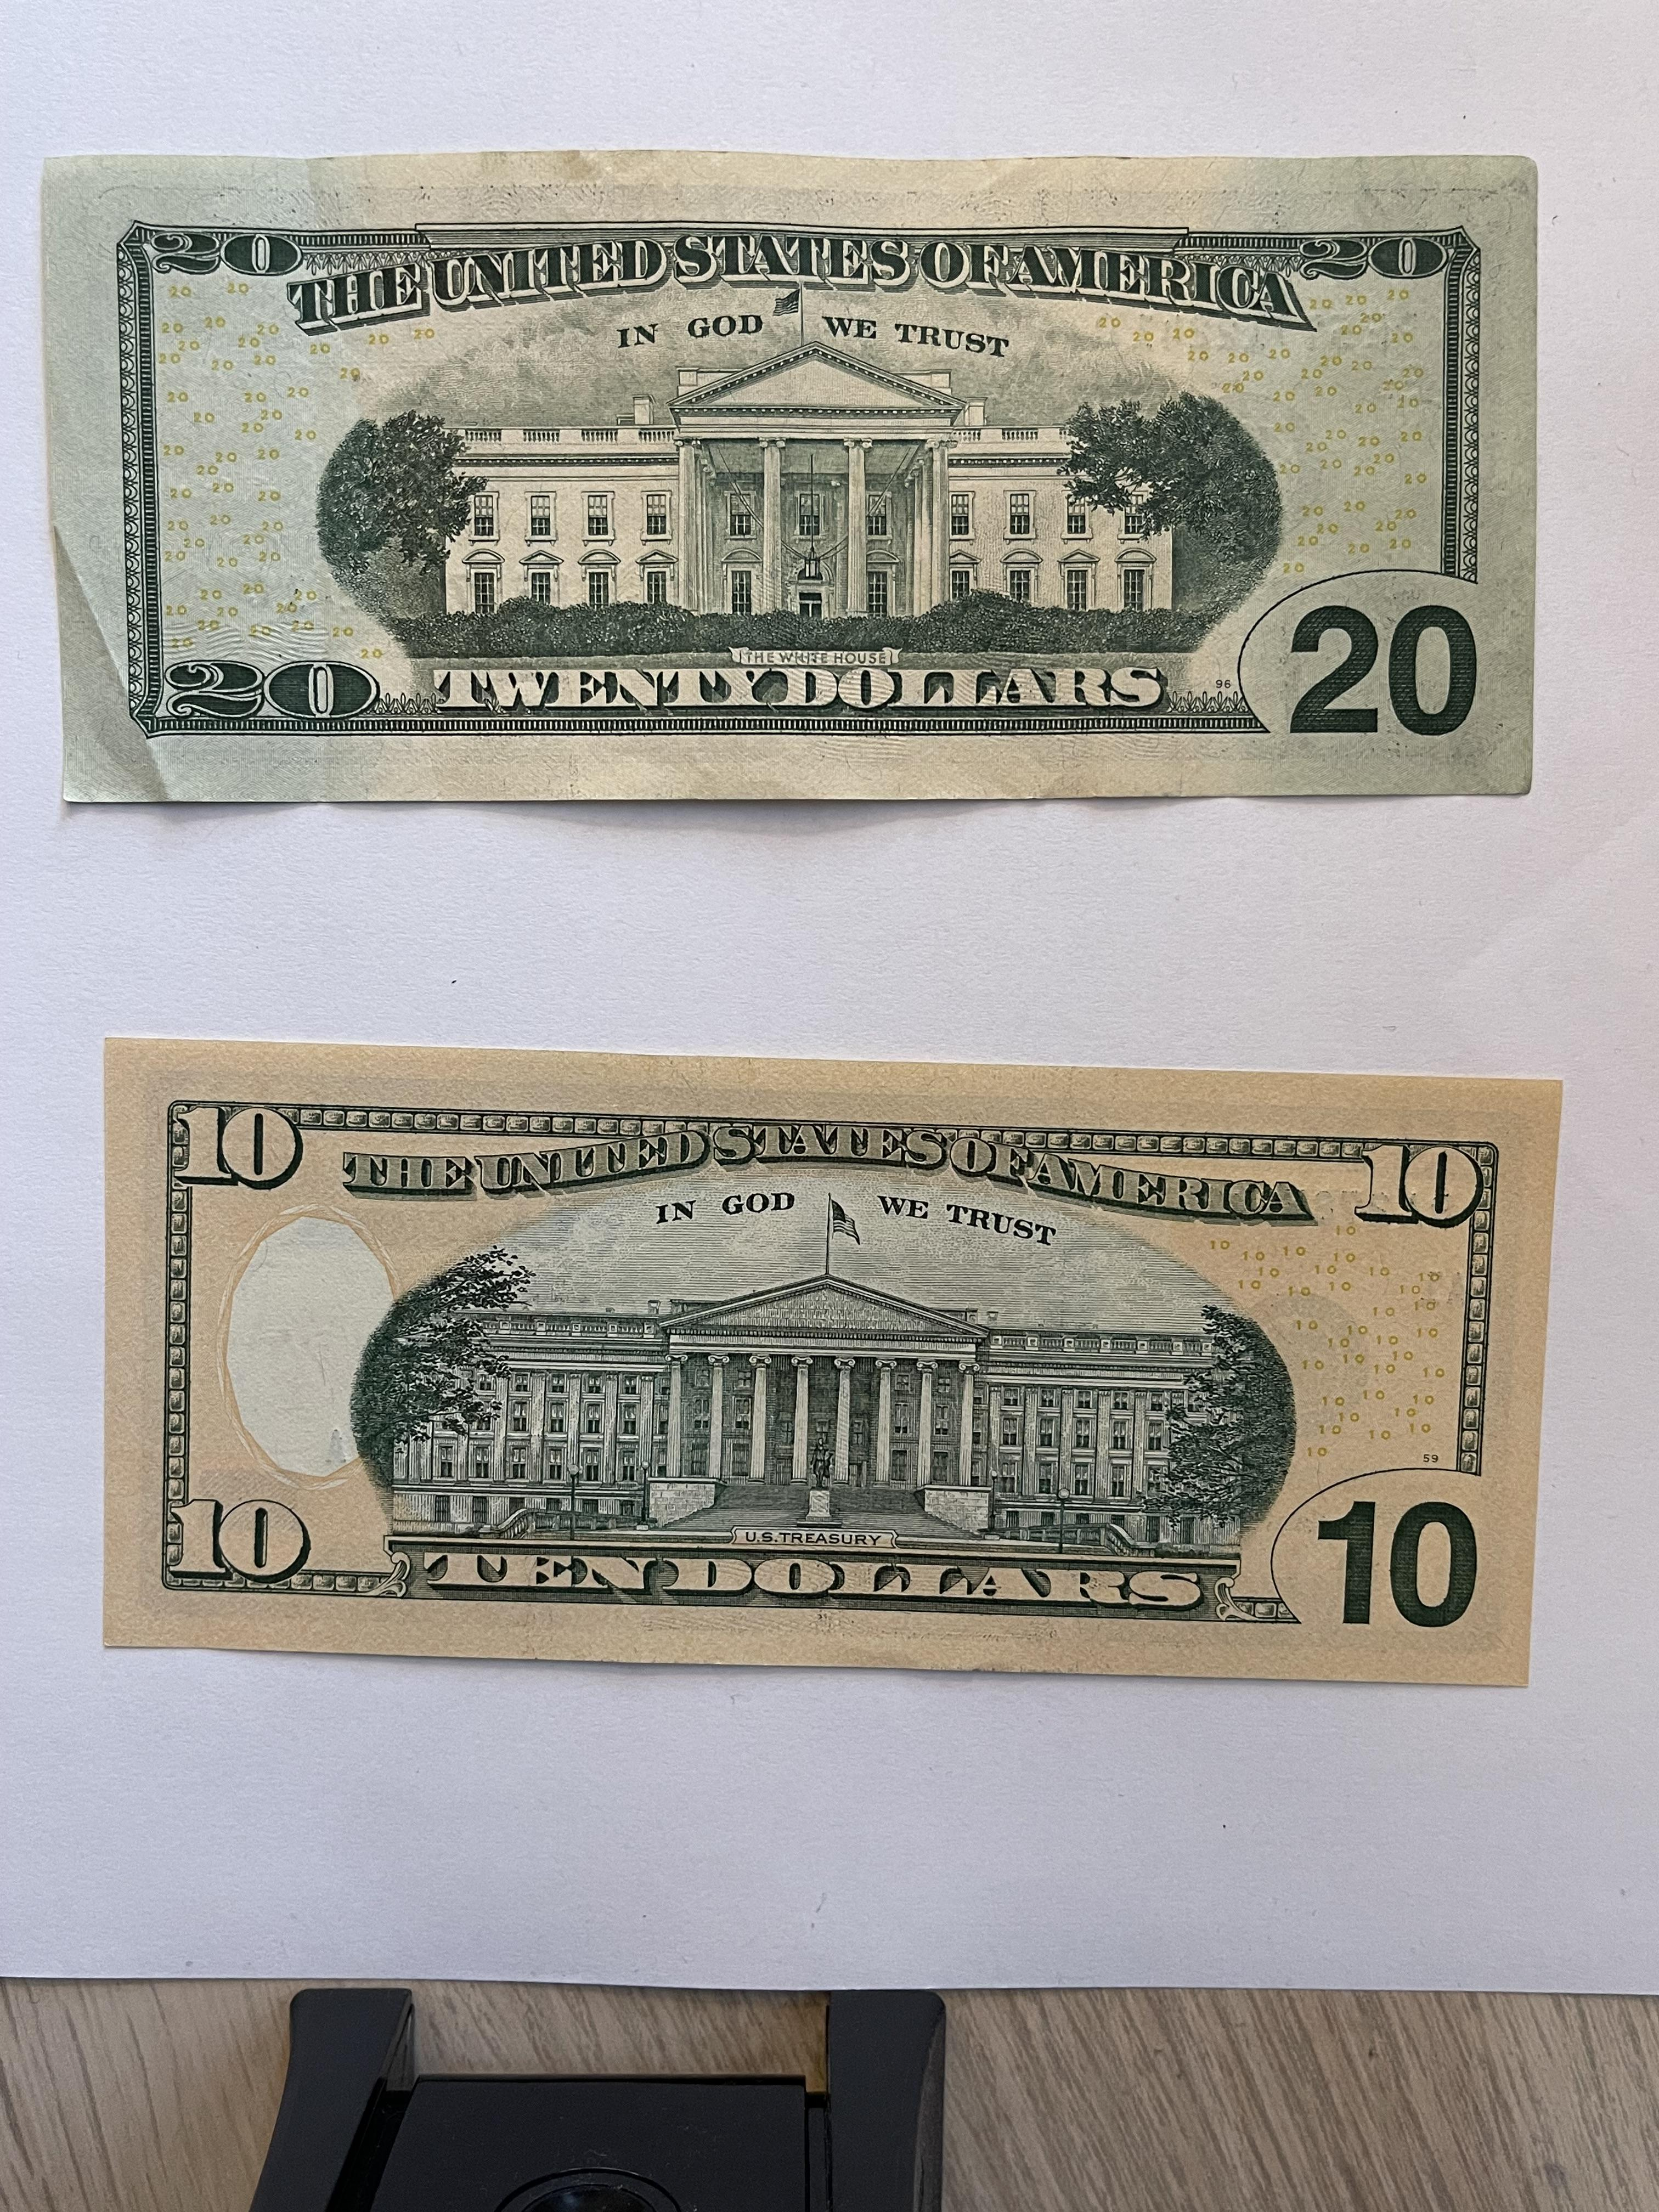TenBill: (101, 1029, 1568, 1693)
TwentyBill: (44, 145, 1539, 812)
